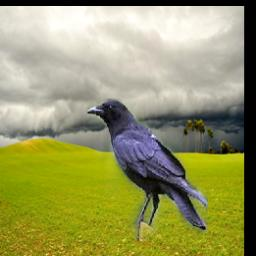Crow: (88, 100, 209, 242)
